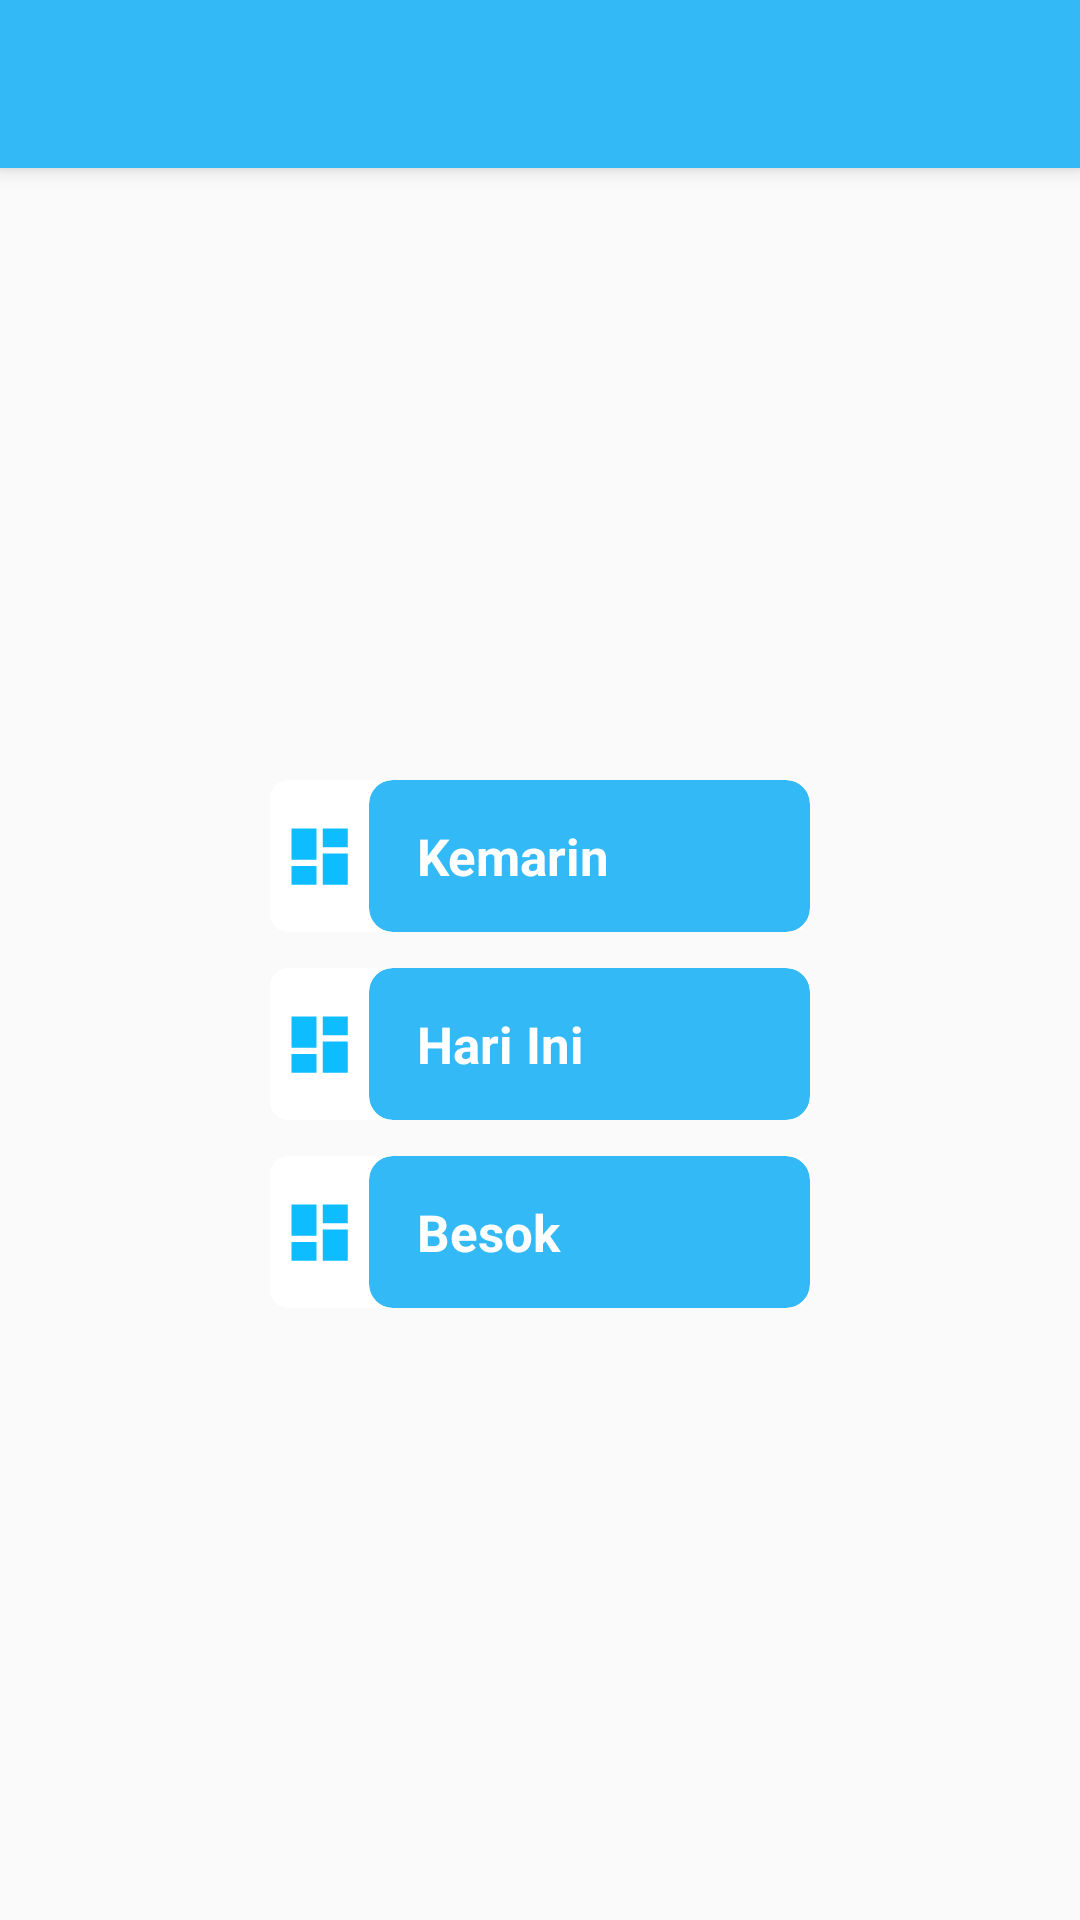

Icon click points for this 1080px×1920px phone screenshot, format point (x, y):
dashboard: point (319, 856), point (319, 1044), point (319, 1232)
